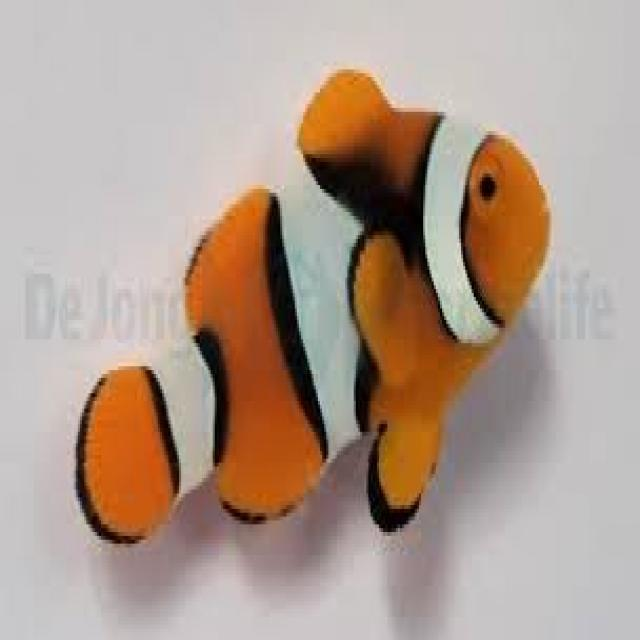Amphiprion-percula: (38, 56, 575, 584)
